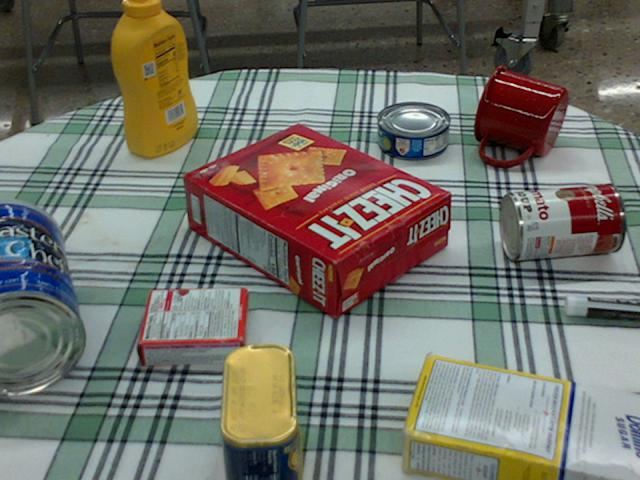cracker_box: (182, 122, 448, 317)
gelatin_box: (139, 287, 248, 363)
large_marker: (565, 293, 639, 320)
master_chef_can: (0, 199, 87, 395)
mug: (473, 64, 566, 166)
mustard_bottle: (112, 0, 197, 157)
potted_meat_can: (218, 341, 303, 479)
sugar_box: (398, 357, 639, 479)
tomato_soup_can: (499, 183, 624, 258)
tuna_fish_can: (377, 102, 450, 159)
